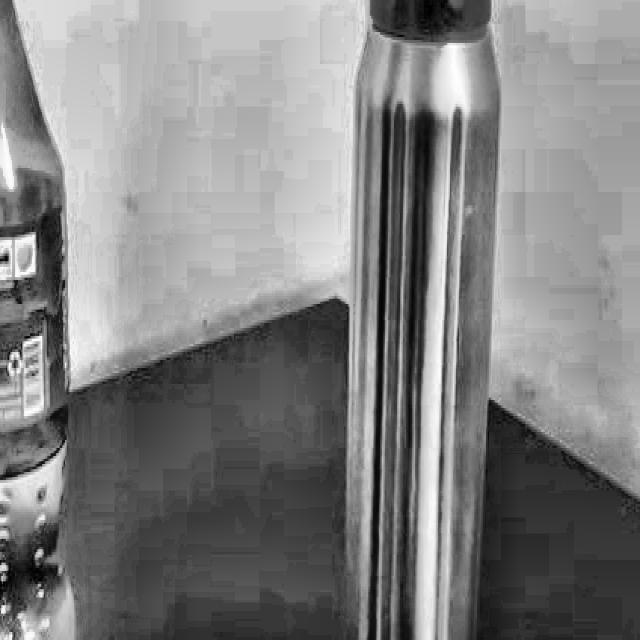bottle: (341, 0, 503, 640)
